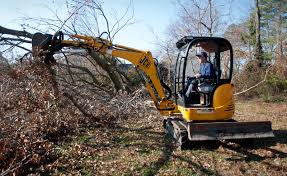excavator: (33, 28, 277, 149)
